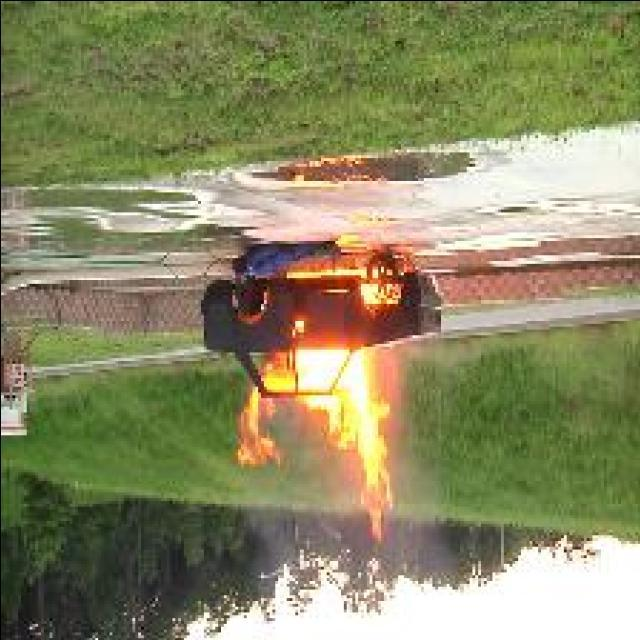Fire: (238, 351, 392, 538)
